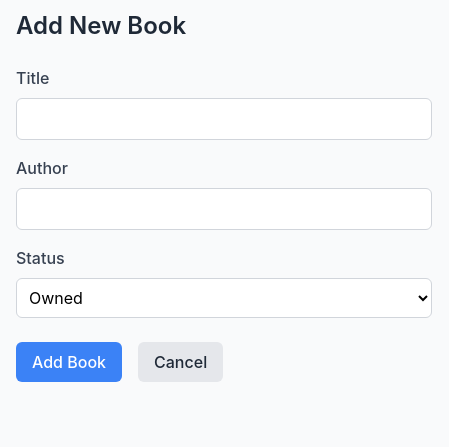
Test: BookForm Component › shows validation errors when submitting empty form
Click the button "Add Book": (69, 362) [16,342,122,382]
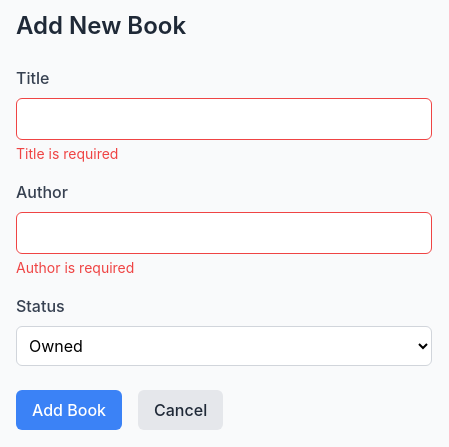
Expected: the text "Title is required" is shown, [16,145,118,162]
Expected: the text "Author is required" is shown, [16,259,134,276]
